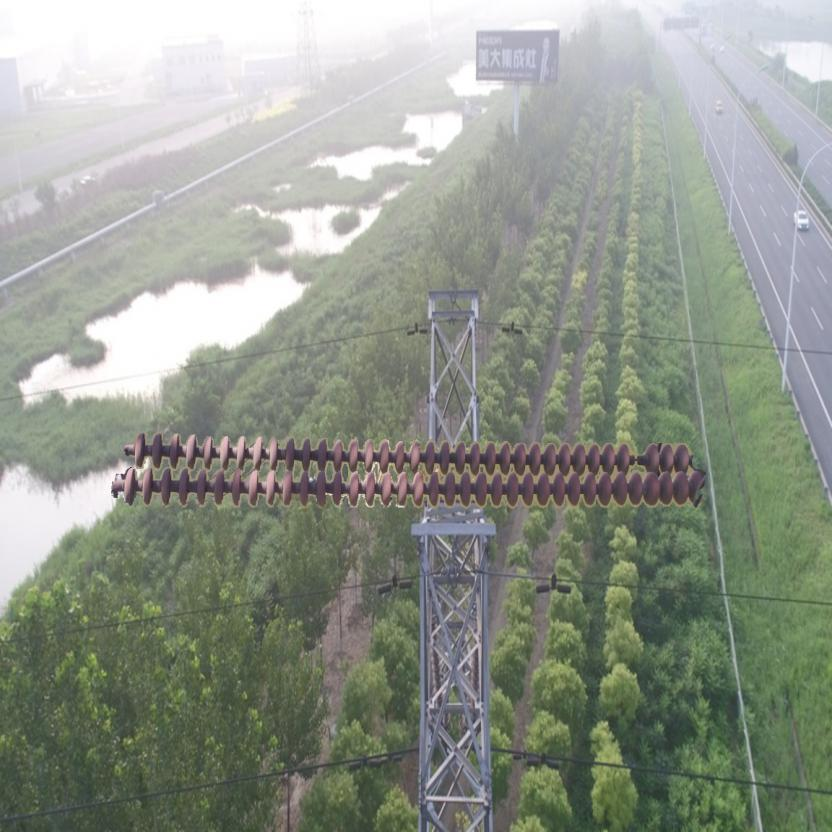defect: (613, 437, 662, 475)
